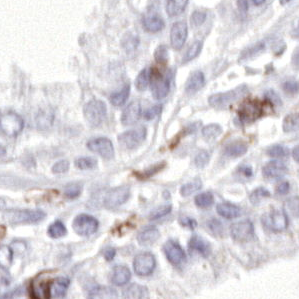Lymphocyte: (234, 94, 273, 121)
